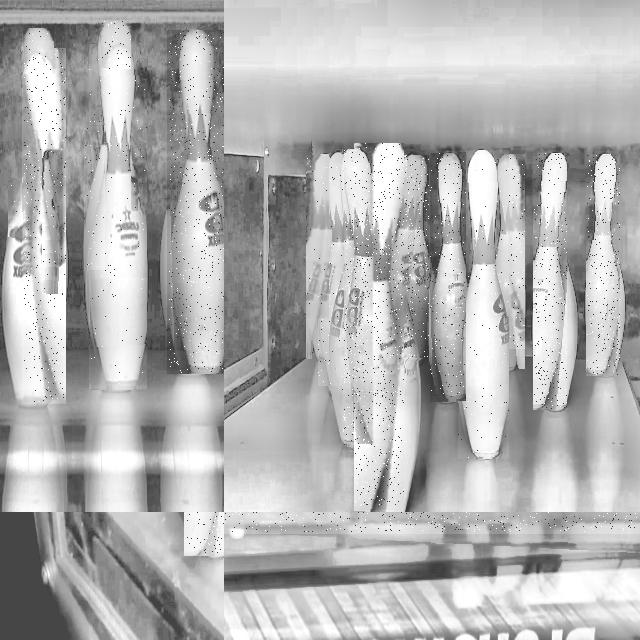bowling-pins: (89, 45, 146, 387), (169, 30, 224, 373), (355, 144, 404, 508), (458, 150, 509, 458), (24, 49, 65, 402), (342, 149, 372, 445), (430, 153, 465, 400), (534, 154, 566, 409), (587, 155, 620, 375), (318, 153, 344, 385), (499, 155, 524, 347), (405, 156, 428, 359), (307, 155, 329, 305), (84, 128, 105, 270), (42, 152, 61, 294), (100, 20, 131, 69), (23, 29, 54, 74), (11, 179, 22, 219), (133, 178, 137, 211)
